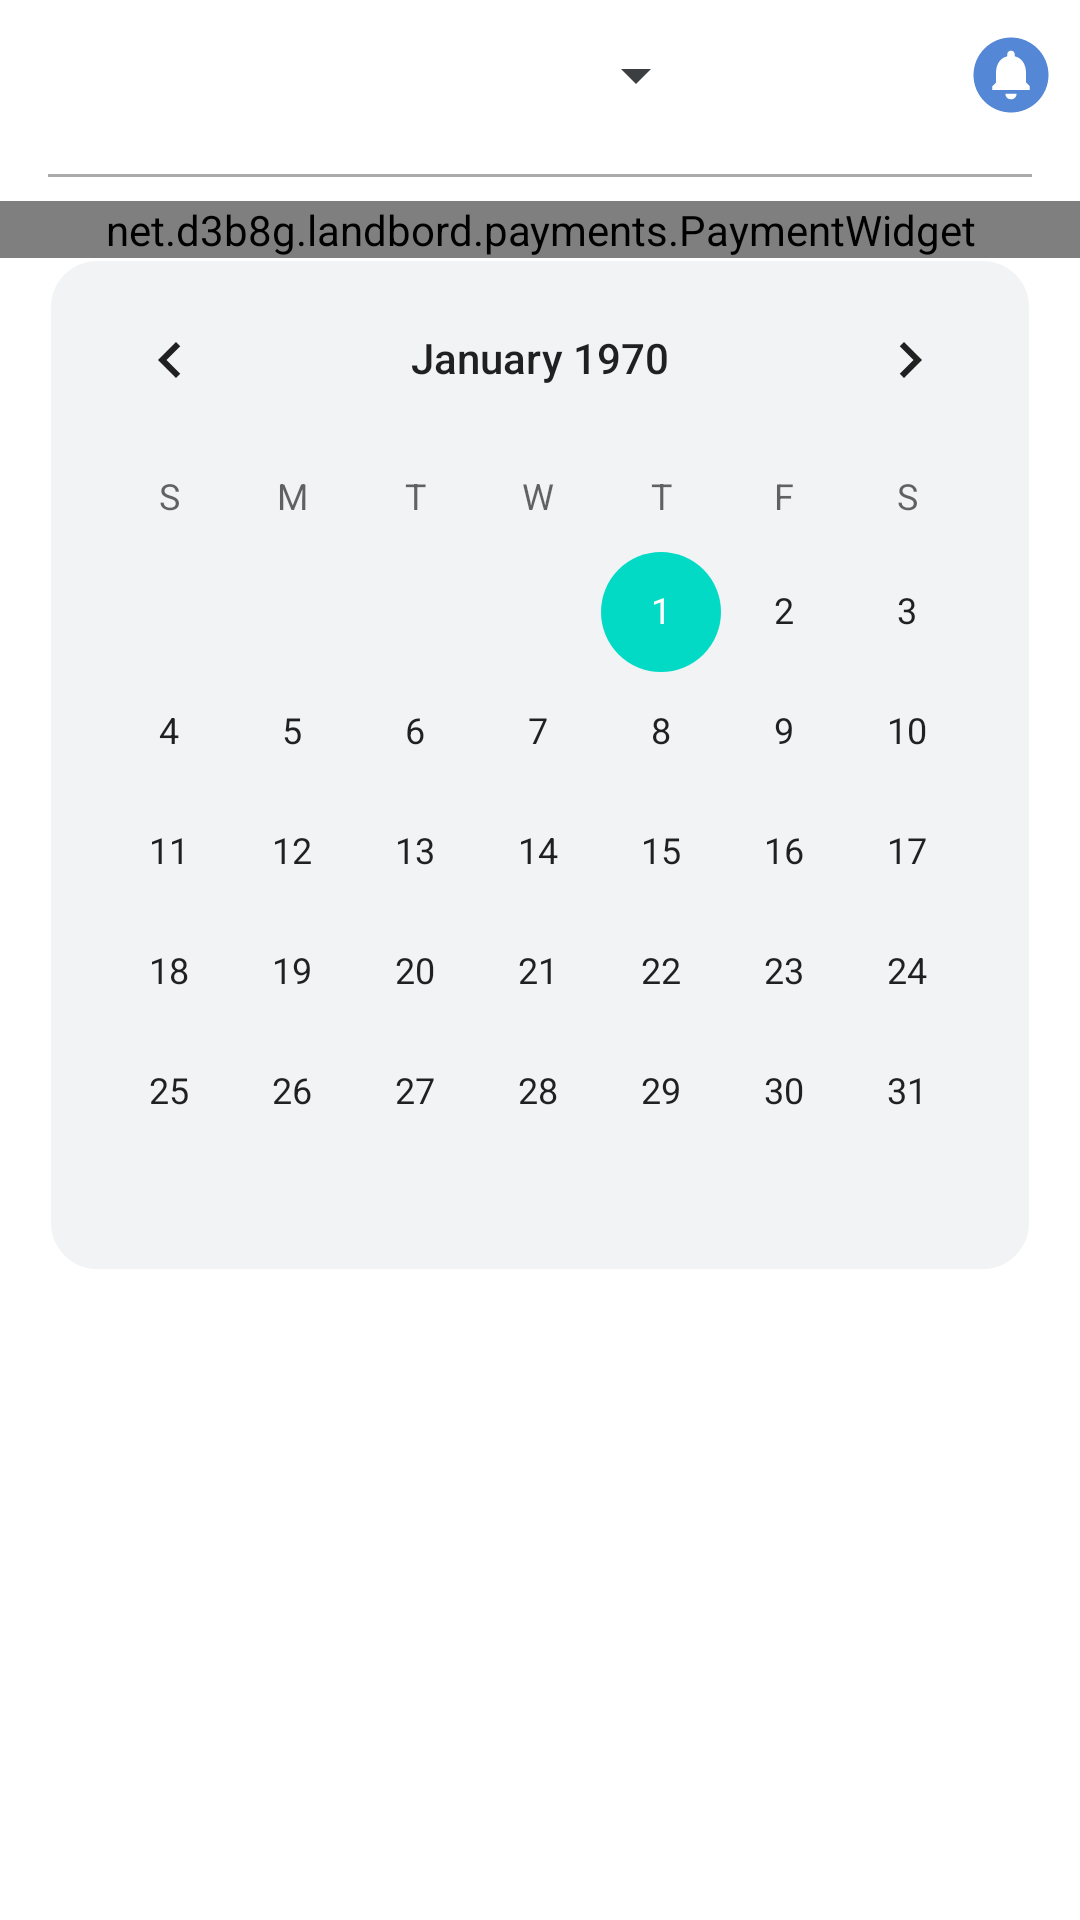

Locate icon controls on the screen. Image size 1080x1920, boxes as (x1, y1, x2, y2).
circle notifications: (973, 37, 1049, 113)
